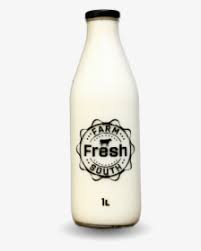milk: (61, 5, 146, 233)
